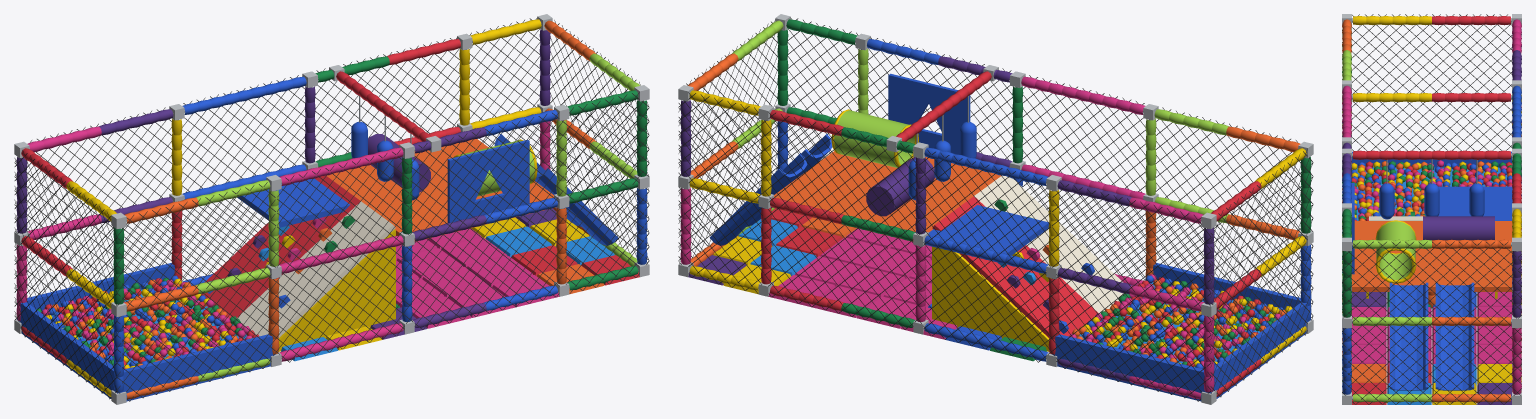
Rendered from web.glb.
3 views of the same model, side by side, from view 1: azimuth 30°, elevation 25°; view 2: azimuth 150°, elevation 25°; view 3: azimuth 270°, elevation 25° (orthographic). The views are drawn at different scales.
Parts seen in each view (by area): view 1: isotubo, rede, plataforma, piso, acolchoado, bolinhas, metal, plastico; view 2: isotubo, rede, plataforma, piso, acolchoado, bolinhas, metal, plastico; view 3: isotubo, rede, plataforma, piso, plastico, acolchoado, bolinhas, metal.
Boxes of the visible parts, x1,y1,x2,y2 form: isotubo: [16, 19, 647, 399]; rede: [14, 17, 649, 401]; plataforma: [201, 139, 556, 351]; piso: [281, 208, 639, 361]; acolchoado: [17, 121, 537, 401]; bolinhas: [36, 275, 259, 368]; metal: [14, 14, 649, 404]; plastico: [208, 134, 618, 308]; isotubo: [680, 19, 1311, 399]; rede: [678, 17, 1313, 401]; plataforma: [771, 73, 1123, 351]; piso: [688, 208, 1046, 361]; acolchoado: [831, 109, 1310, 401]; bolinhas: [1069, 274, 1292, 368]; metal: [678, 14, 1313, 404]; plastico: [709, 134, 1094, 333]; isotubo: [1342, 16, 1521, 402]; rede: [1342, 14, 1521, 404]; plataforma: [1351, 183, 1512, 298]; piso: [1342, 292, 1521, 404]; plastico: [1389, 211, 1474, 390]; acolchoado: [1352, 151, 1511, 283]; bolinhas: [1351, 160, 1512, 220]; metal: [1342, 14, 1521, 404].
Size of the model in its own units: 6 by 2 by 2.
8 materials, 8 textured.
